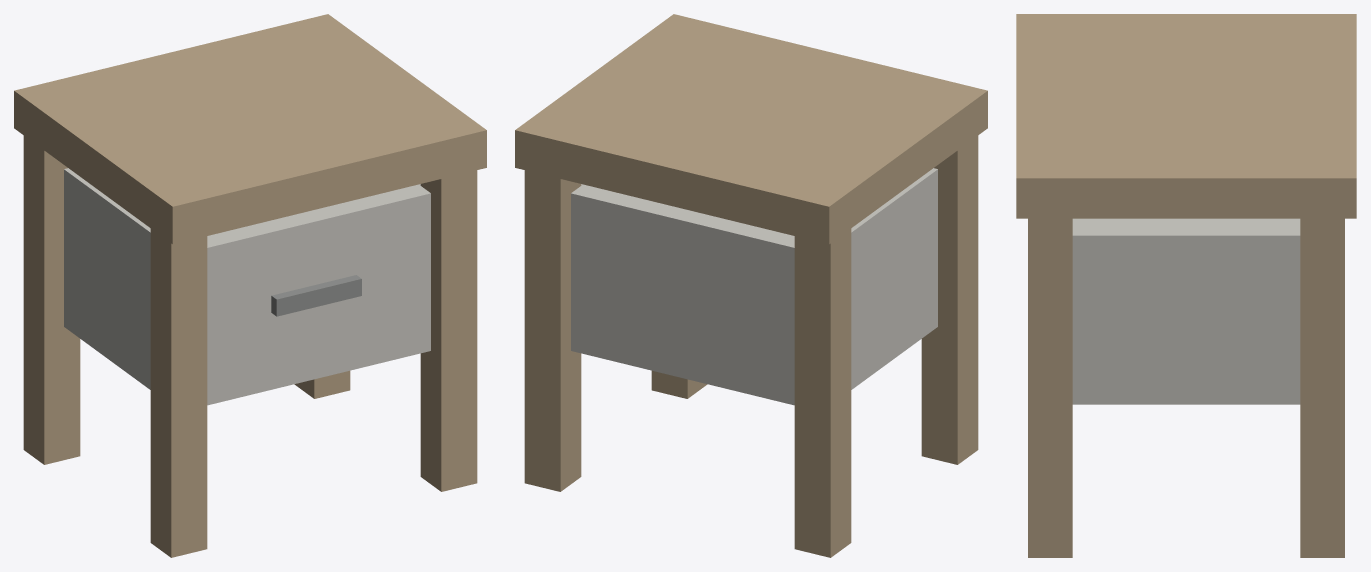
The model's file is bedside.glb.
The picture shows the model from 3 angles, left to right: view 1: azimuth 30°, elevation 25°; view 2: azimuth 150°, elevation 25°; view 3: azimuth 270°, elevation 25°; orthographic projection. The views are drawn at different scales.
Visible parts, largest first — view 1: bedside_top, bedside_drawer, bedside_leg_0_1, bedside_leg_1_1, bedside_leg_0_0, bedside_pull, bedside_leg_1_0; view 2: bedside_top, bedside_drawer, bedside_leg_0_0, bedside_leg_1_0, bedside_leg_0_1, bedside_leg_1_1; view 3: bedside_top, bedside_drawer, bedside_leg_1_0, bedside_leg_1_1.
Boxes of the visible parts, <box> form: bedside_top: <box>14,14,486,244</box>; bedside_drawer: <box>64,168,430,405</box>; bedside_leg_0_1: <box>150,228,207,557</box>; bedside_leg_1_1: <box>420,170,477,491</box>; bedside_leg_0_0: <box>23,135,80,464</box>; bedside_pull: <box>271,275,361,316</box>; bedside_leg_1_0: <box>294,370,350,398</box>; bedside_top: <box>515,14,987,244</box>; bedside_drawer: <box>571,168,937,405</box>; bedside_leg_0_0: <box>794,228,851,557</box>; bedside_leg_1_0: <box>524,170,581,491</box>; bedside_leg_0_1: <box>921,135,978,464</box>; bedside_leg_1_1: <box>651,370,707,398</box>; bedside_top: <box>1016,14,1356,218</box>; bedside_drawer: <box>1072,218,1300,404</box>; bedside_leg_1_0: <box>1300,218,1344,557</box>; bedside_leg_1_1: <box>1028,218,1072,557</box>.
Bounding box in the file's own units: 0.48 × 0.52 × 0.42.
